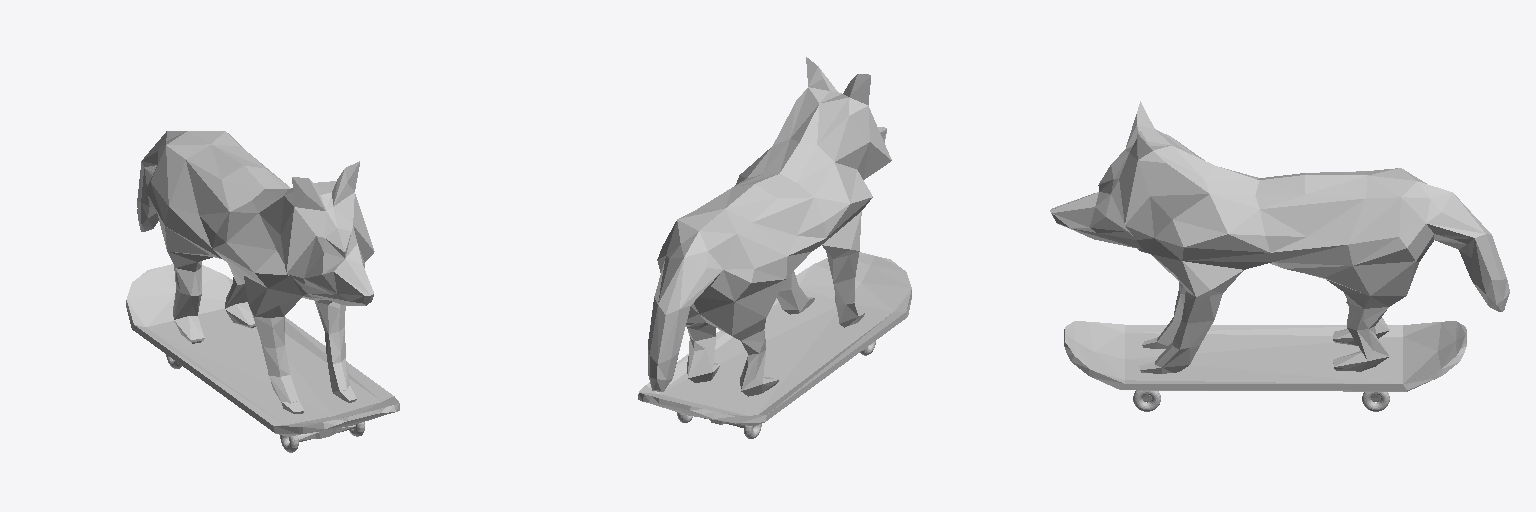
File: Fuchs31.obj
3 views of the same model, side by side, from view 1: azimuth 30°, elevation 25°; view 2: azimuth 150°, elevation 25°; view 3: azimuth 270°, elevation 25° (orthographic).
Size of the model in its own units: 3.58 by 7.86 by 11.78.